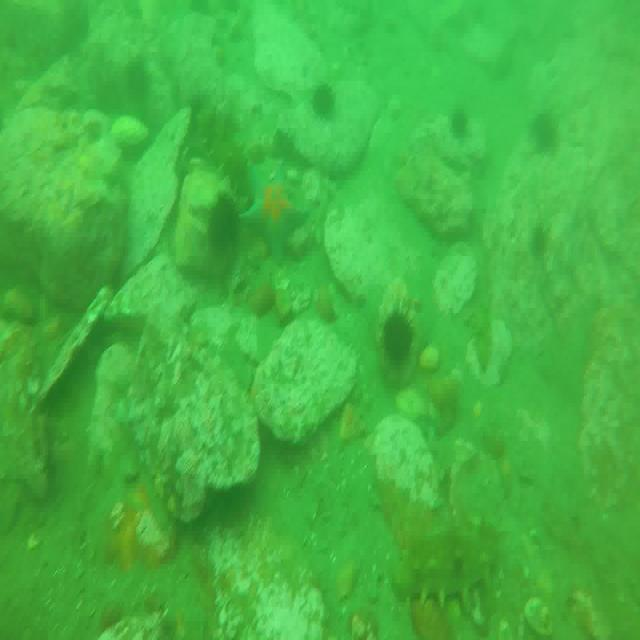echinus: (207, 194, 241, 260), (380, 308, 414, 365), (534, 108, 558, 153), (312, 84, 338, 125), (448, 108, 469, 141)
holothurian: (398, 549, 493, 606)
starfish: (242, 157, 308, 258)
